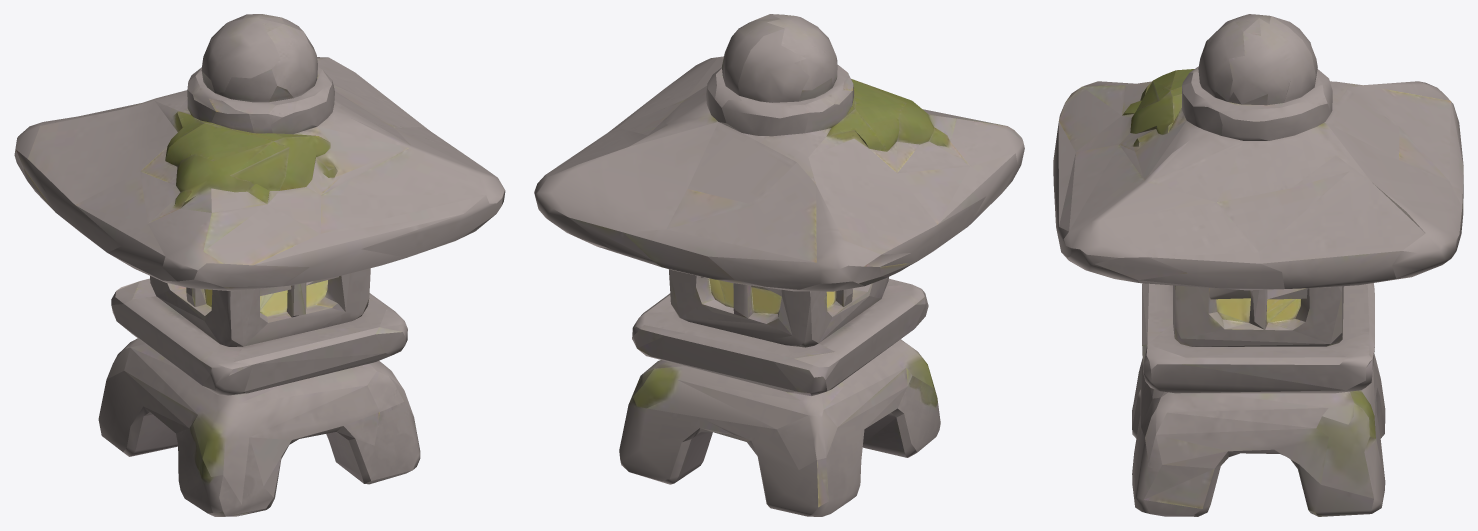
File: deco-stone-lantern.glb
3 views of the same model, side by side, from view 1: azimuth 30°, elevation 25°; view 2: azimuth 150°, elevation 25°; view 3: azimuth 270°, elevation 25° (orthographic). The views are drawn at different scales.
Parts seen in each view (by area): view 1: deco-stone-lantern-fit; view 2: deco-stone-lantern-fit; view 3: deco-stone-lantern-fit.
Boxes of the visible parts, <box> form: deco-stone-lantern-fit: <box>14,14,505,516</box>; deco-stone-lantern-fit: <box>534,14,1024,516</box>; deco-stone-lantern-fit: <box>1053,14,1463,516</box>.
Bounding box in the file's own units: 1.07 × 1.3 × 1.08.
1 material, 1 textured.
